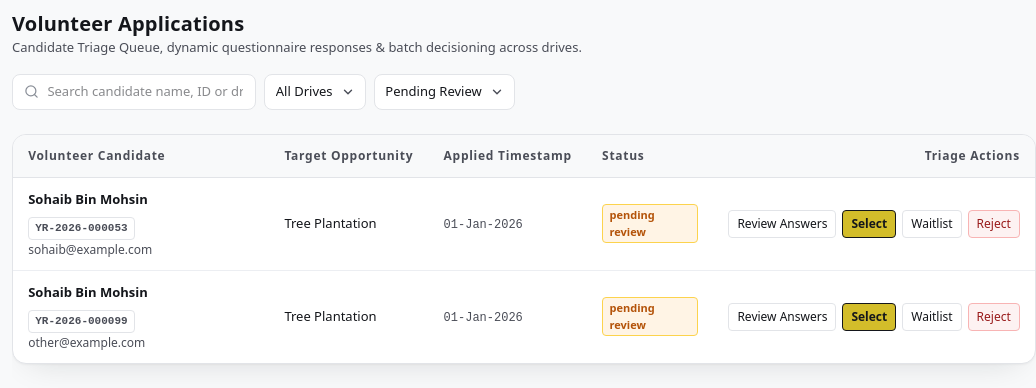
Scenario: YouthRepublicApplicationsPage › action button permissions gating › renders volunteerCode and filters applications by volunteerCode search
Check: the text "YR-2026-000053" is shown, box [28, 217, 135, 240]
Check: the text "YR-2026-000099" is shown, box [28, 310, 135, 333]
Type "000053" into the field with placeholder "Search candidate name, ID or drive...".
click(134, 92); type("000053")  # box [12, 74, 256, 110]
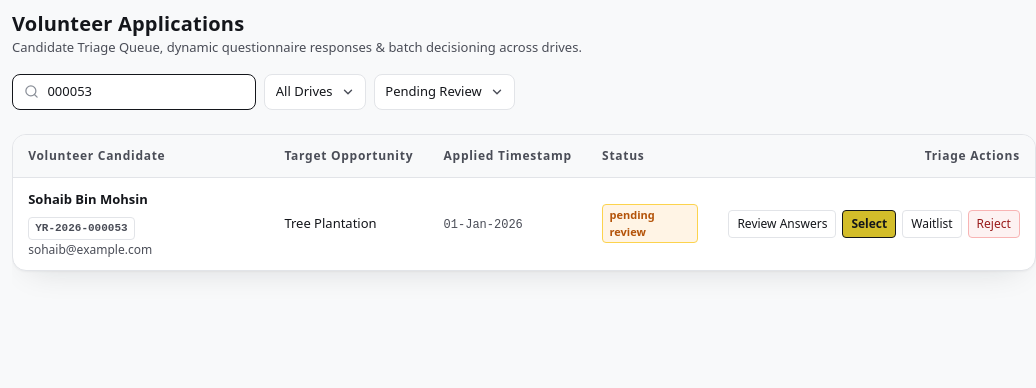
Check: the text "YR-2026-000053" is shown, box [28, 217, 135, 240]
Check: the text "YR-2026-000099" is gone
